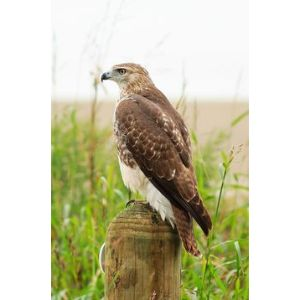hawk: (97, 59, 220, 259)
